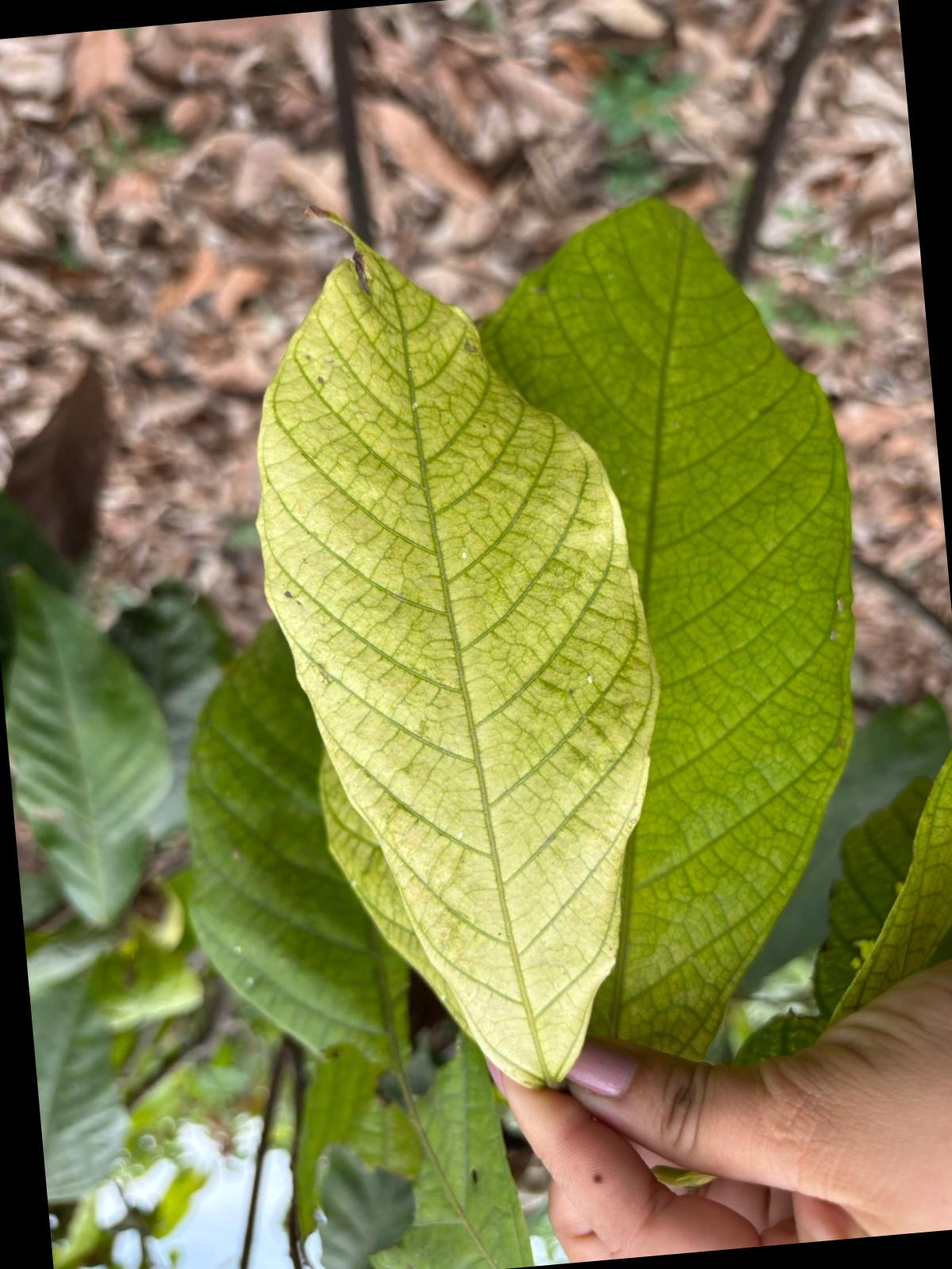Nitrogeno: (259, 243, 659, 1084), (482, 201, 854, 1057)
